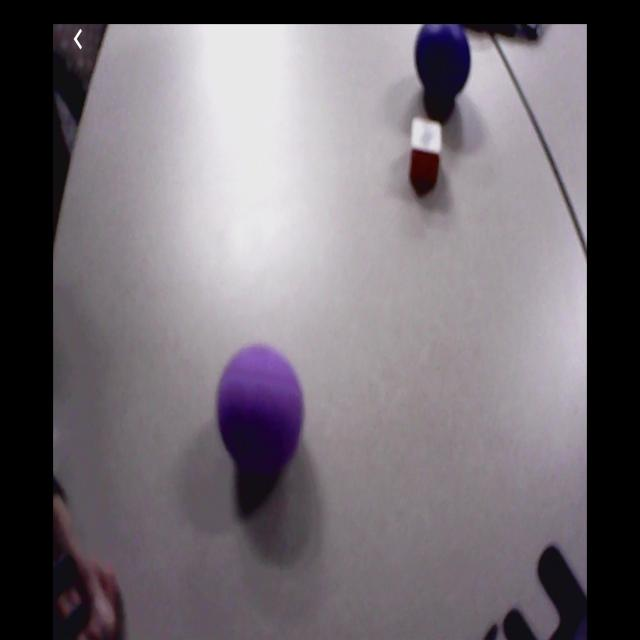ball: (219, 344, 302, 464), (416, 22, 471, 94)
